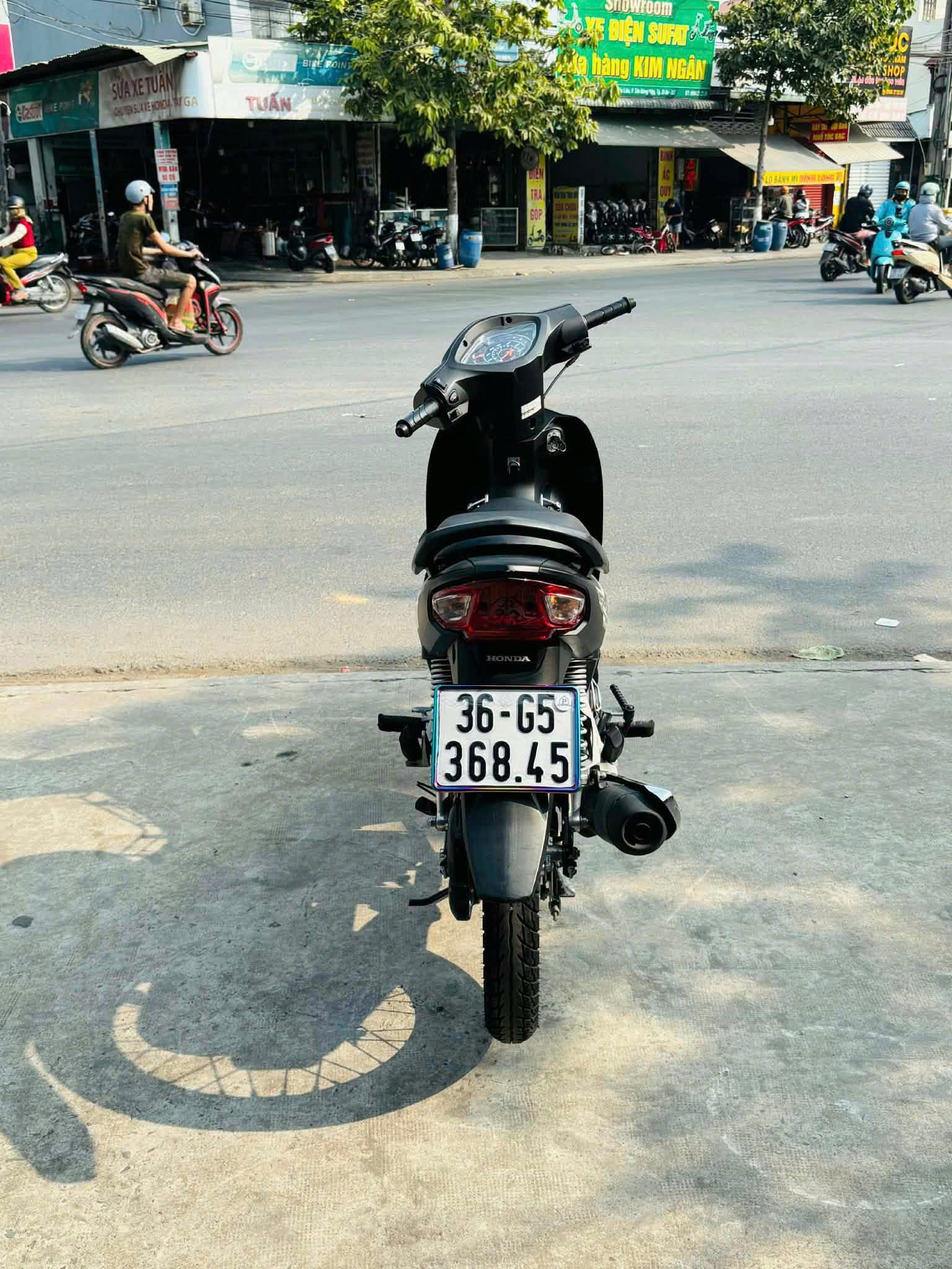Bien-so: (434, 699, 579, 806)
